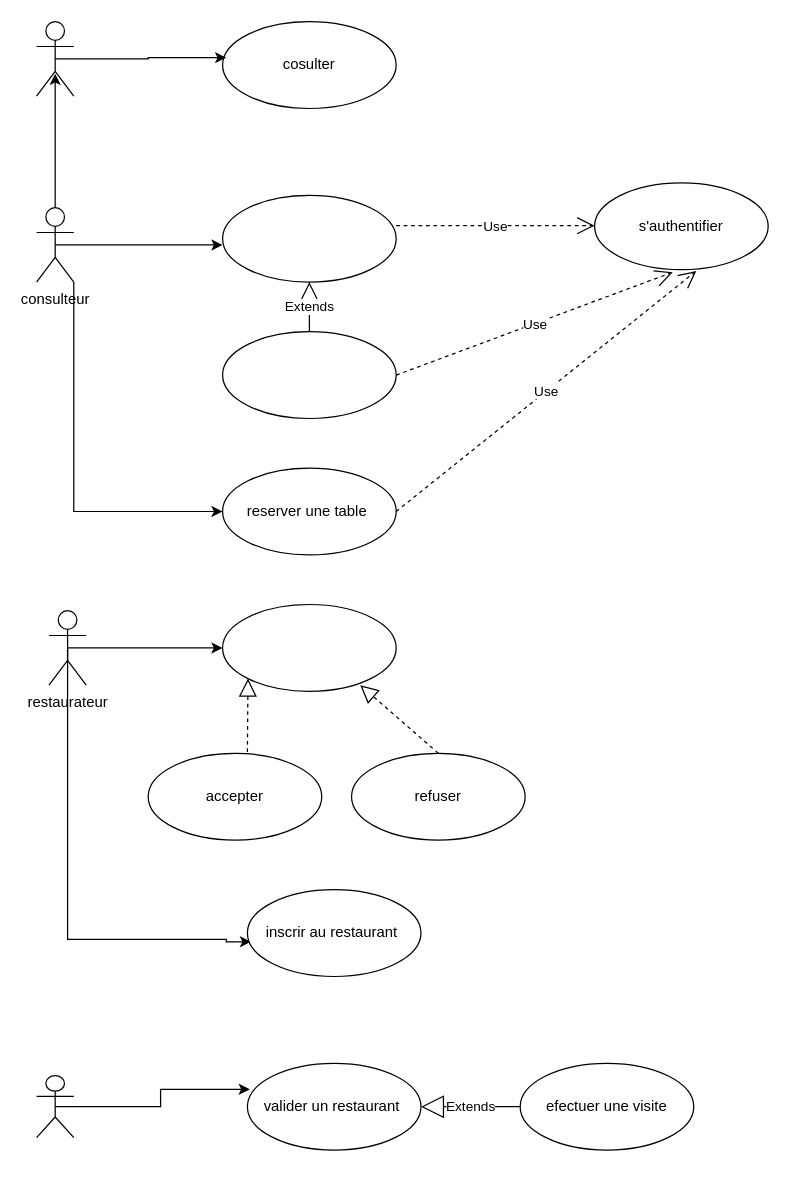
Image size: 790x1185. Some labels were removed from this diagram. Here are the shapes that lost their labels. From the top down, the centre of each, then its label:
At point 54,58: "internot".
At point 308,238: "évaluer".
At point 308,374: "deposer un commentaire".
At point 308,647: "valider la demande".
At point 54,1106: "Actor".
